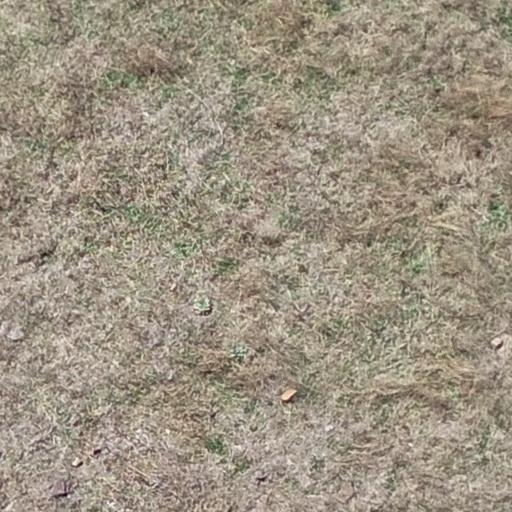stone: (334, 487, 355, 507), (50, 477, 70, 492), (281, 385, 297, 403), (8, 324, 26, 339), (254, 469, 269, 484), (166, 369, 178, 384), (492, 336, 503, 351), (89, 445, 104, 456), (72, 456, 84, 467), (2, 320, 8, 336)
